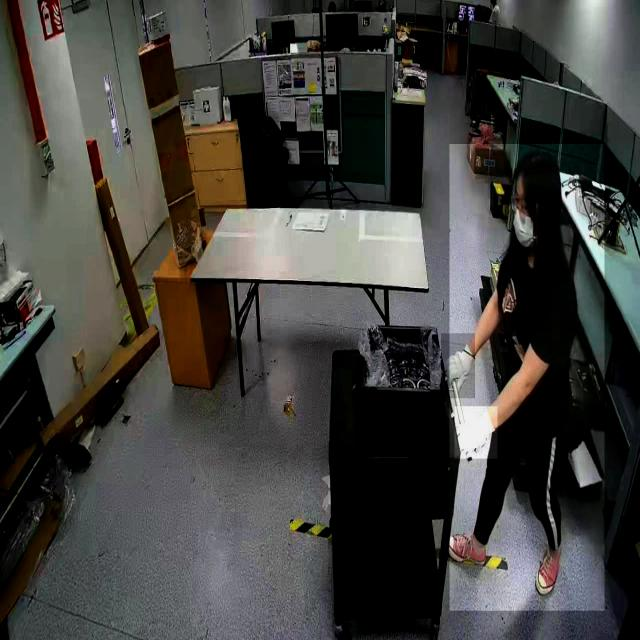face_mask: (510, 198, 536, 257)
hand_glove: (454, 406, 498, 460), (441, 334, 475, 398)
head_nohelmet: (512, 148, 562, 188)
person: (449, 144, 605, 612)
shoes: (446, 521, 489, 571), (532, 538, 566, 599)
